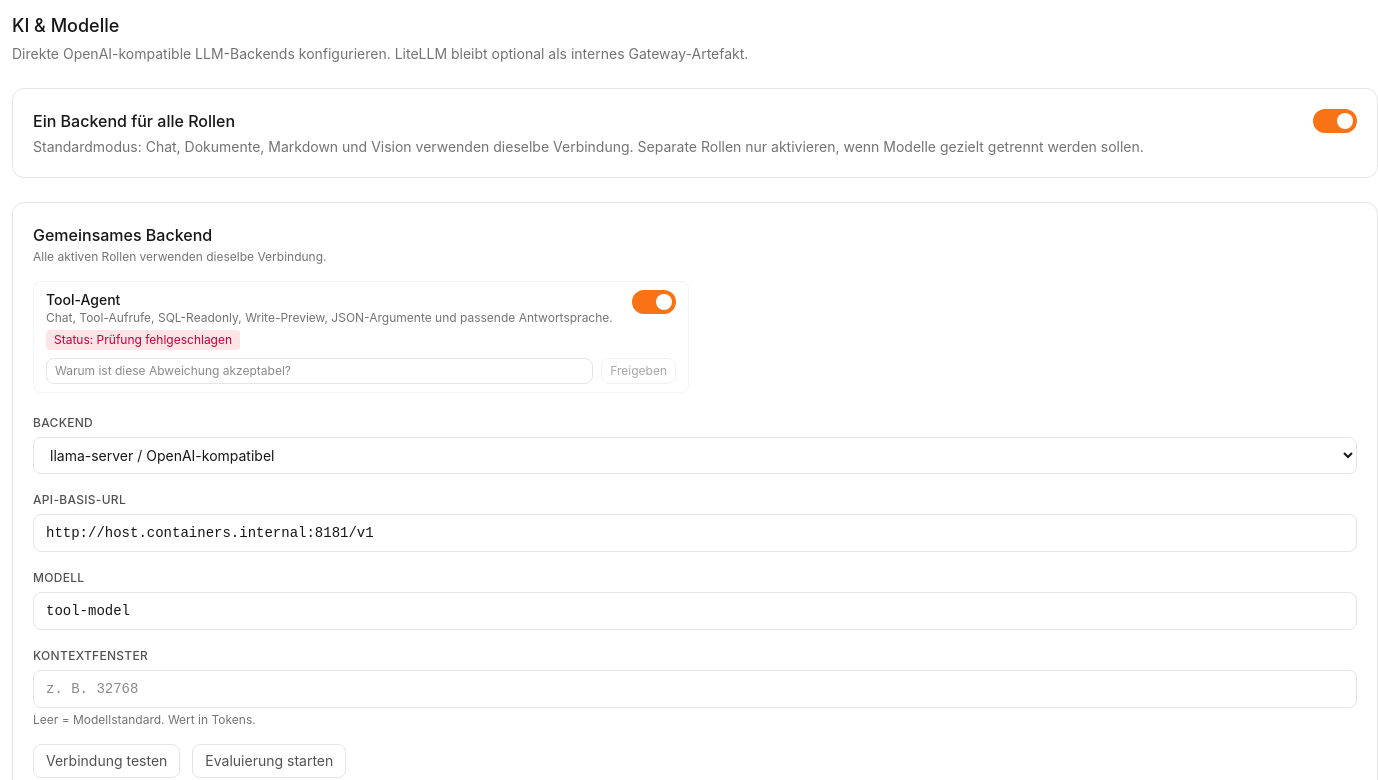
LLMSettingsPage › surfaces connection test validation details from the API
Expected: the heading "Gemeinsames Backend" is shown, [33, 225, 212, 245]
Click the button "Verbindung testen": (107, 761) [33, 744, 180, 778]
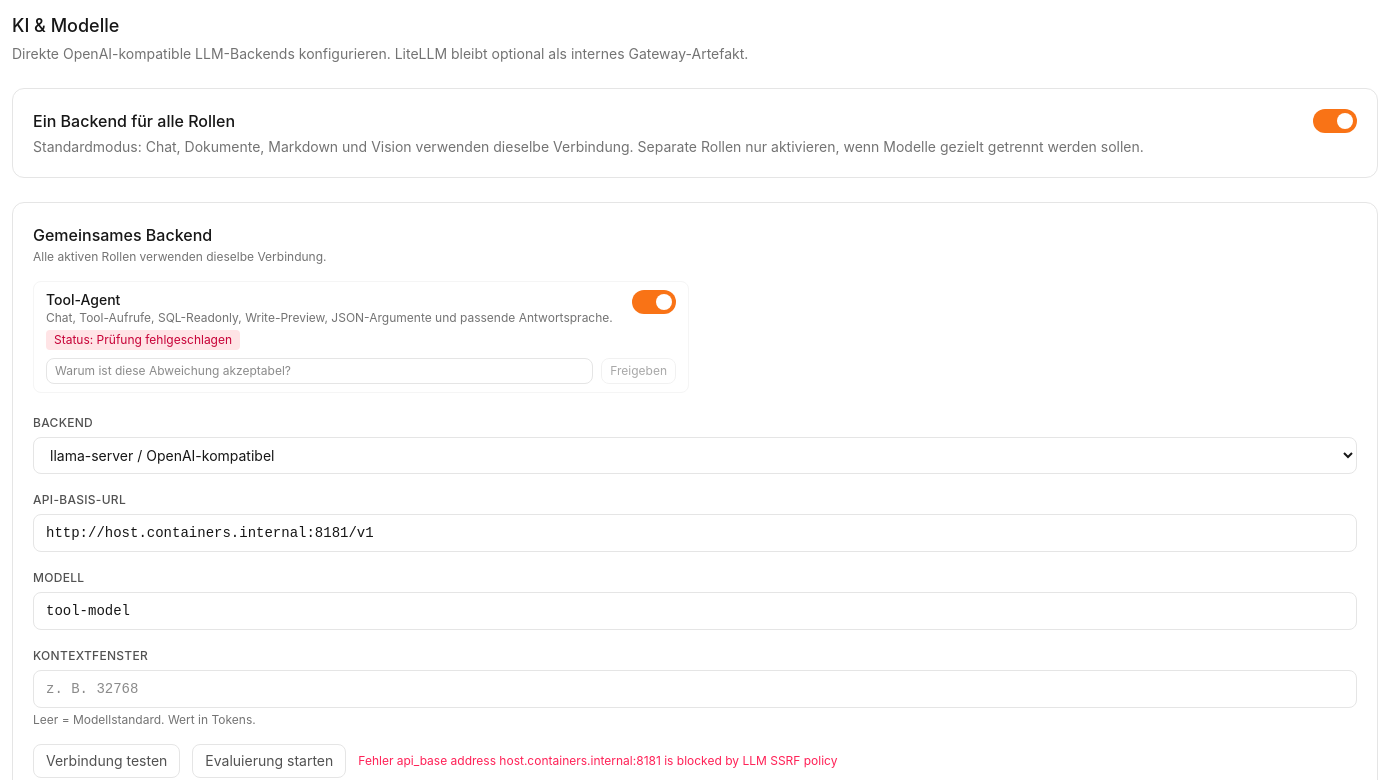
Now the text "host.containers.internal:8181 is blocked" is shown, box [397, 753, 838, 768]
